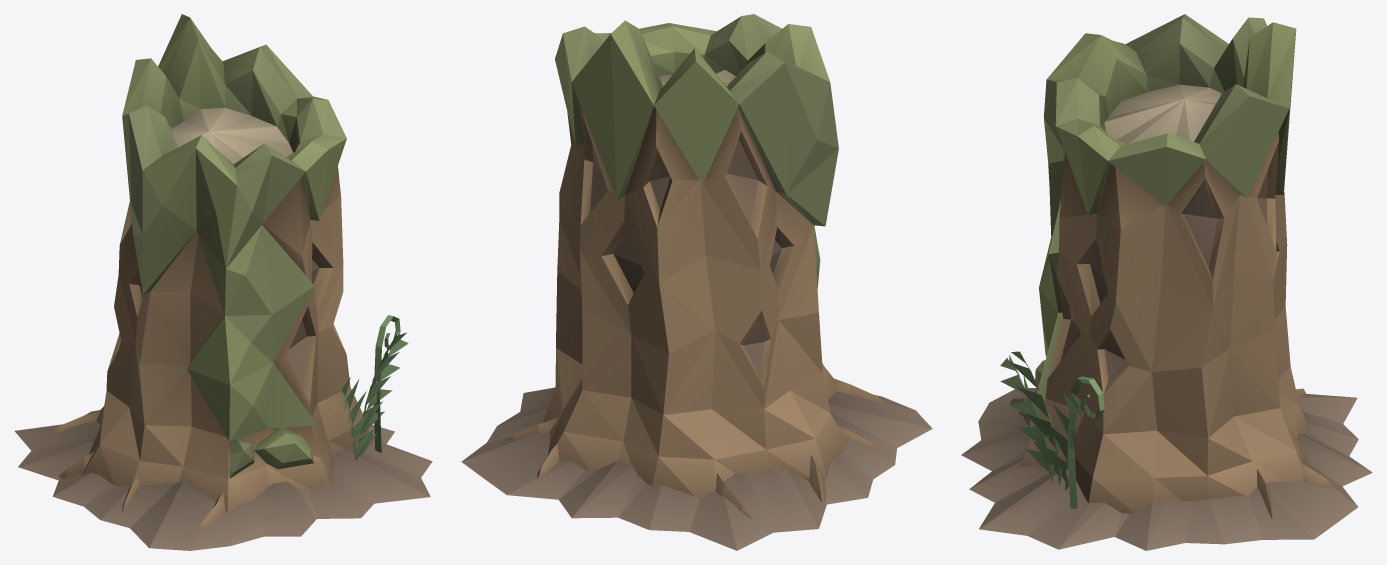
The model's file is stump.glb.
3 views of the same model, side by side, from view 1: azimuth 30°, elevation 25°; view 2: azimuth 150°, elevation 25°; view 3: azimuth 270°, elevation 25° (orthographic). The views are drawn at different scales.
Parts seen in each view (by area): view 1: stump.001; view 2: stump.001; view 3: stump.001.
Part boxes in pixels (box(x1,y1,x2,y2)): stump.001: box(14, 14, 432, 550); stump.001: box(461, 14, 932, 550); stump.001: box(961, 14, 1372, 550).
Bounding box in the file's own units: 1.6 × 1.93 × 1.6.
